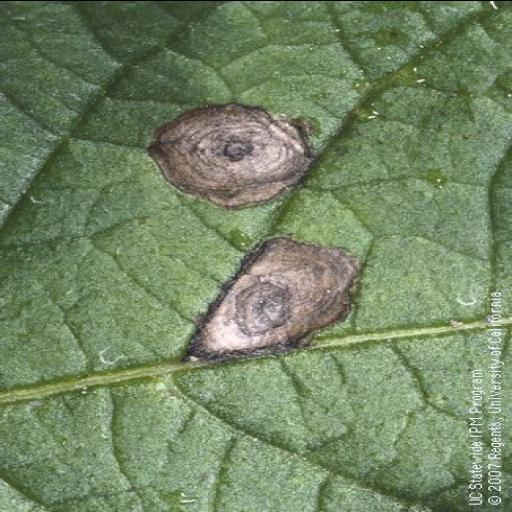disease_tomato: (1, 0, 512, 511)
